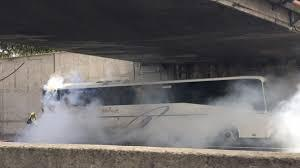smoke: (122, 75, 300, 154), (16, 74, 107, 150)
